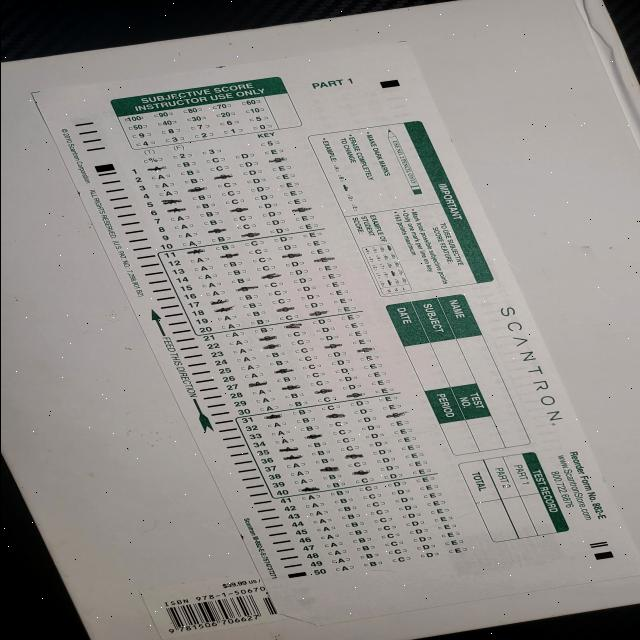scantron: (29, 41, 640, 626)
